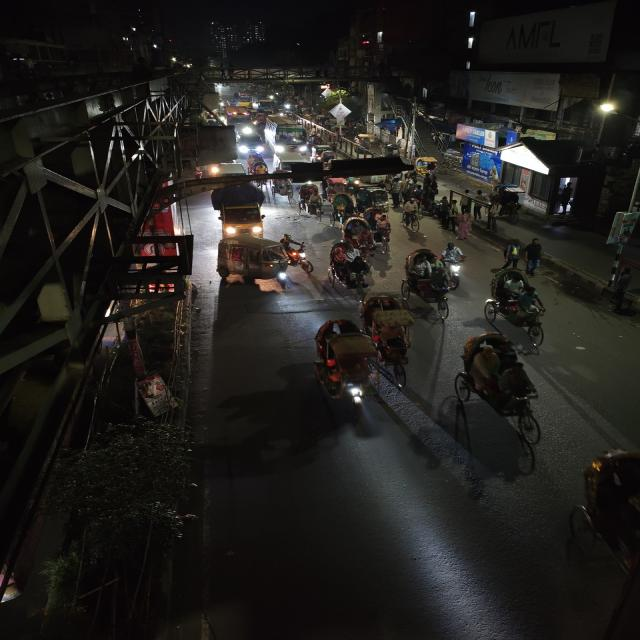bus: (264, 116, 310, 158)
car: (220, 236, 292, 294), (210, 159, 247, 179), (237, 132, 266, 156)
motorcycle: (278, 231, 315, 277), (441, 243, 468, 285)
pedestrian: (606, 266, 637, 313), (522, 236, 546, 276), (452, 208, 477, 241), (400, 198, 423, 231), (438, 199, 460, 231), (483, 201, 504, 232), (296, 183, 317, 213), (500, 240, 522, 268), (386, 178, 406, 208)
pickup_van: (213, 182, 269, 238)
rickshaw: (452, 328, 562, 461), (310, 316, 383, 416), (481, 269, 556, 347), (360, 291, 420, 382), (406, 248, 454, 323), (324, 240, 375, 298), (342, 216, 378, 256), (365, 207, 396, 249), (329, 192, 356, 222)
truck: (231, 93, 253, 109)
